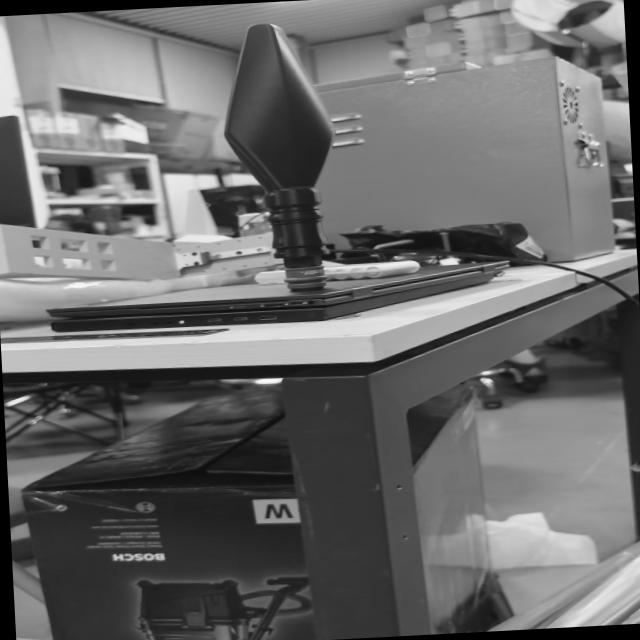base: (276, 261, 340, 300)
